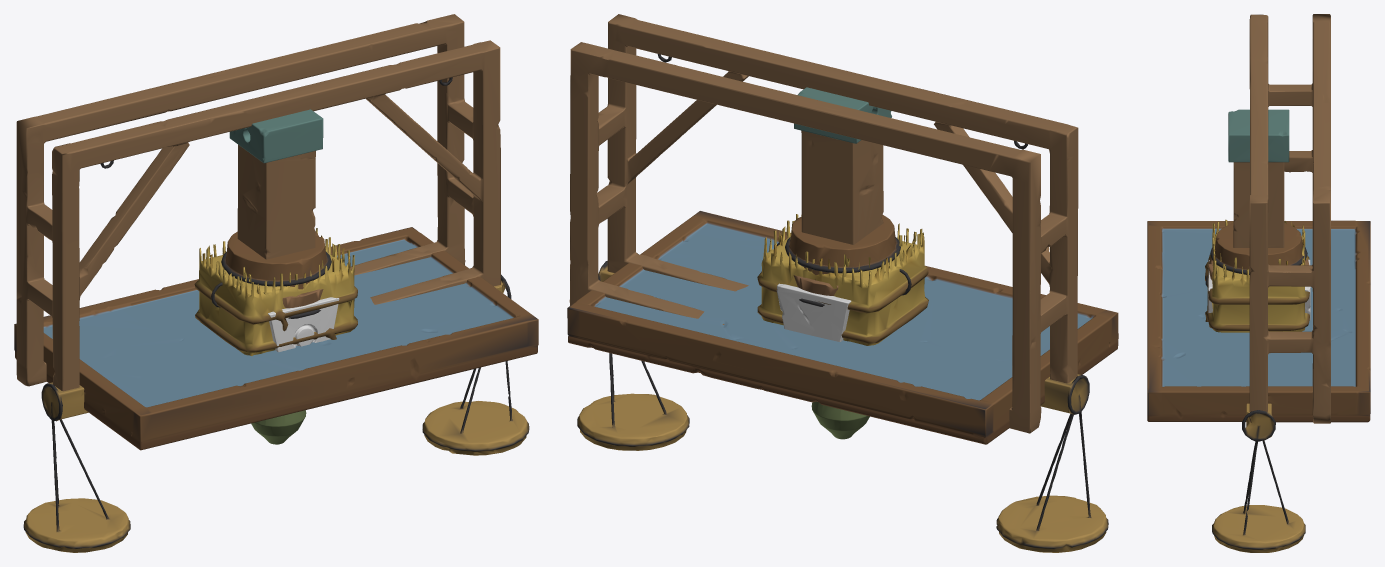
The model's file is mech.fbx.
The picture shows the model from 3 angles, left to right: view 1: azimuth 30°, elevation 25°; view 2: azimuth 150°, elevation 25°; view 3: azimuth 270°, elevation 25°; orthographic projection. The views are drawn at different scales.
Visible parts, largest first — view 1: M_BellFrame, M_Trough, M_ScaleBeam, M_ScalePost, M_Hay, M_Keg, M_Keystone, M_Bell, M_Bucket; view 2: M_BellFrame, M_Trough, M_ScaleBeam, M_Hay, M_ScalePost, M_Keg, M_Keystone, M_Bell, M_Bucket; view 3: M_Trough, M_BellFrame, M_ScalePost, M_ScaleBeam, M_Hay, M_Keg, M_Keystone.
Boxes of the visible parts, x1,y1,x2,y2 form: M_BellFrame: (16,14,500,391); M_Trough: (14,227,538,450); M_ScaleBeam: (23,274,529,552); M_ScalePost: (229,109,323,259); M_Hay: (194,228,357,355); M_Keg: (221,231,331,289); M_Keystone: (268,297,339,352); M_Bell: (251,410,306,444); M_Bucket: (211,257,337,318); M_BellFrame: (569,14,1078,433); M_Trough: (567,211,1118,444); M_ScaleBeam: (577,261,1108,552); M_Hay: (757,214,928,345); M_ScalePost: (794,87,891,244); M_Keg: (785,214,900,280); M_Keystone: (776,283,851,341); M_Bell: (811,401,869,439); M_Bucket: (777,242,911,306); M_Trough: (1147,220,1370,422); M_BellFrame: (1249,14,1330,423); M_ScalePost: (1228,109,1289,247); M_ScaleBeam: (1212,403,1305,552); M_Hay: (1205,219,1309,332); M_Keg: (1210,223,1307,274); M_Keystone: (1208,259,1310,320).
Size of what is drawn, in the model's own units: 0.2469 by 0.1852 by 0.1102.
